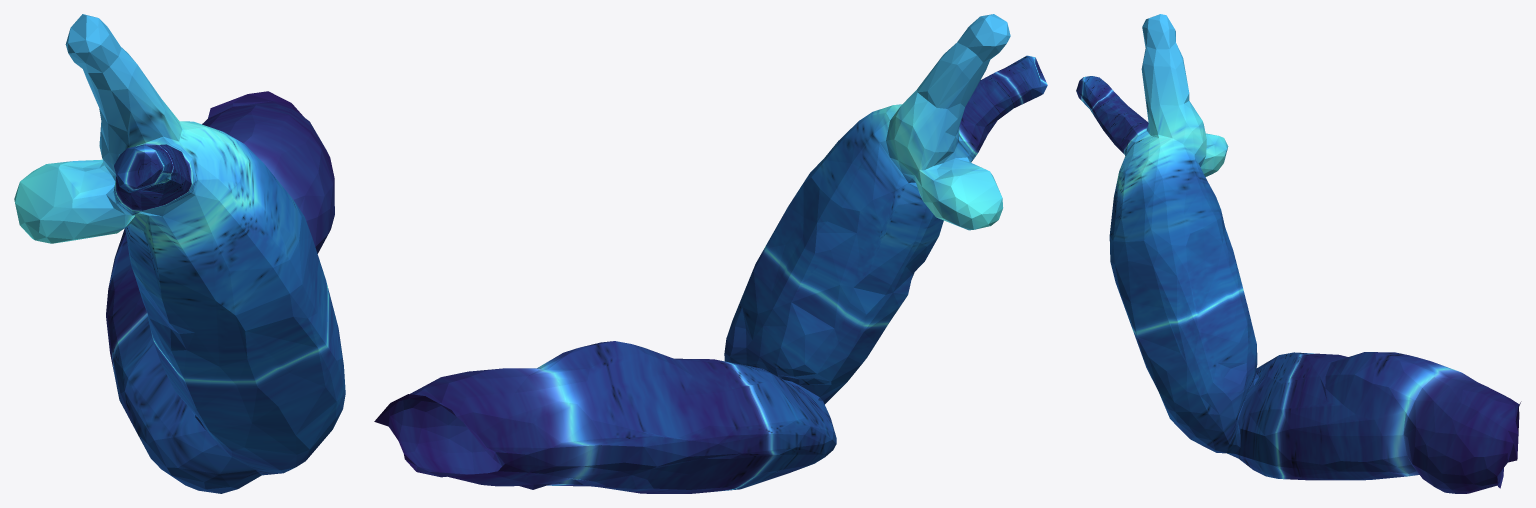
File: BIAvatar.obj
3 renders of one model, left to right at view 1: azimuth 30°, elevation 25°; view 2: azimuth 150°, elevation 25°; view 3: azimuth 270°, elevation 25°, orthographic. The views are drawn at different scales.
Visible parts, largest first — view 1: BIAvatar; view 2: BIAvatar; view 3: BIAvatar.
Part boxes in pixels (x1,y1,x2,y2): BIAvatar: (14,14,345,493); BIAvatar: (374,14,1047,493); BIAvatar: (1076,14,1521,493).
Size of the model in its own units: 0.4918 by 0.5107 by 0.5377.
